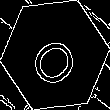O_NE: (25, 23, 85, 87)
